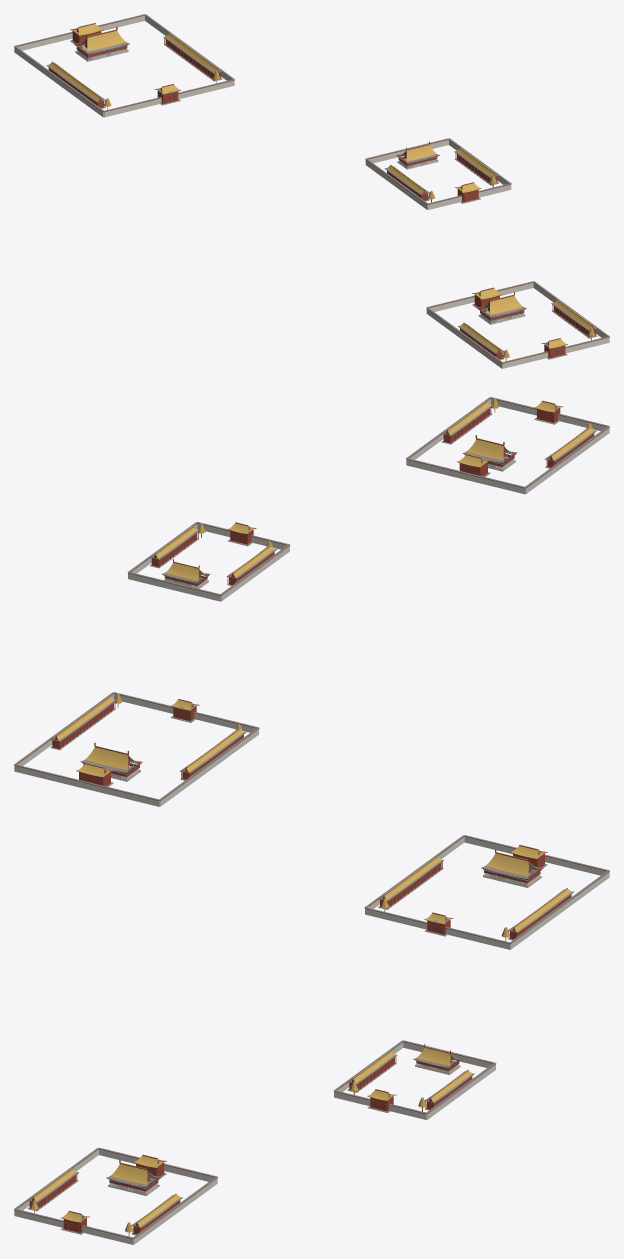
Rendered from r11_west_wings.glb.
3 views of the same model, one above another, from view 1: azimuth 30°, elevation 25°; view 2: azimuth 150°, elevation 25°; view 3: azimuth 330°, elevation 25° (orthographic). The views are drawn at different scales.
Visible parts, largest first — view 1: r11_west_wings; view 2: r11_west_wings; view 3: r11_west_wings.
Part boxes in pixels (<box>): r11_west_wings: <box>14,14,609,368</box>; r11_west_wings: <box>14,397,609,806</box>; r11_west_wings: <box>14,835,609,1244</box>.
Bounding box in the file's own units: 197 × 17.68 × 657.
